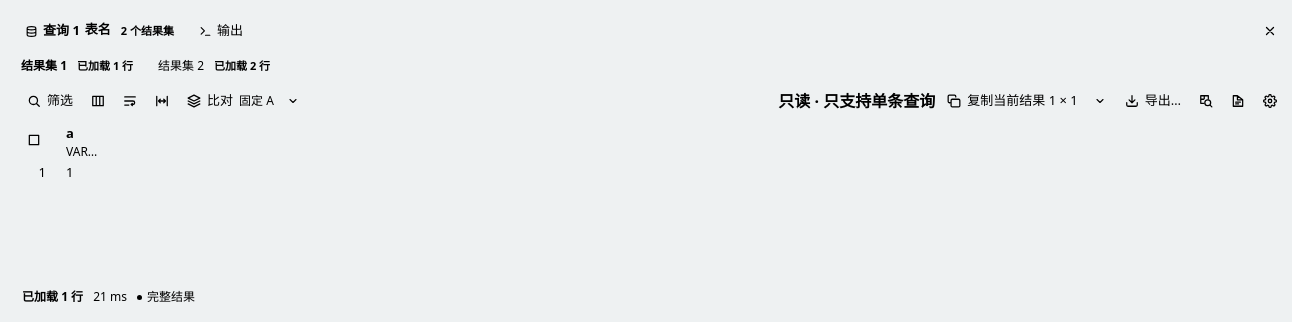
Test: ResultPanel 多结果集 › 两个结果集：出小标签，切换后列名与行都跟着换
This screenshot has width=1292, height=322.
Check: the text "a" is shown, box left=66, top=124, right=74, bottom=142
Check: the tab with class "dbx-rtab" shows "2 个结果集", box left=16, top=12, right=188, bottom=50
Click the tab "结果集 2 已加载 2 行".
click(216, 66)  # box left=149, top=50, right=284, bottom=82
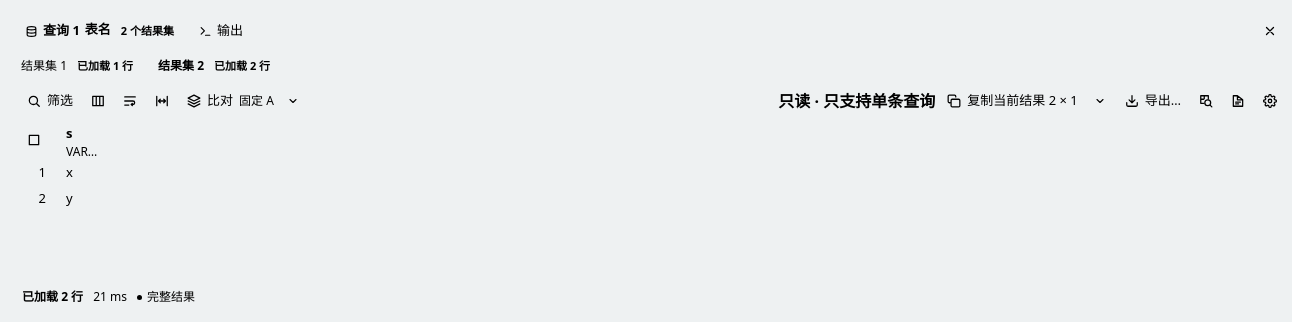
Check: the element with class "dbx-rfoot" shows "已加载 2 行", box left=22, top=288, right=195, bottom=305
